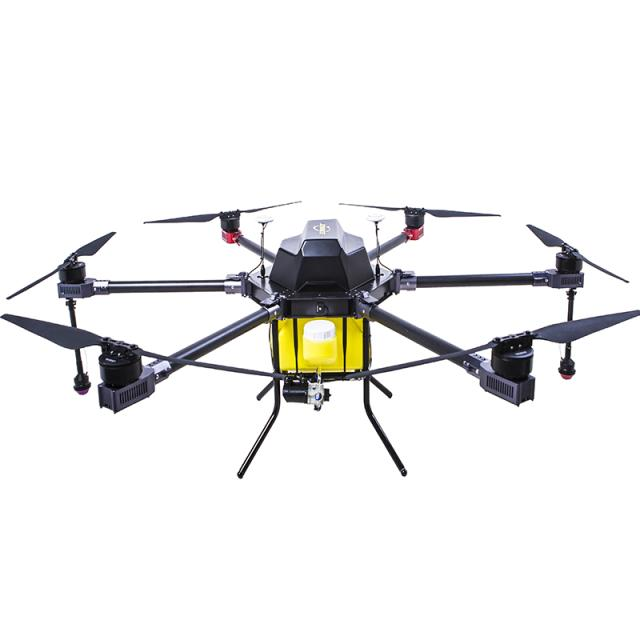drone: (5, 168, 640, 479)
